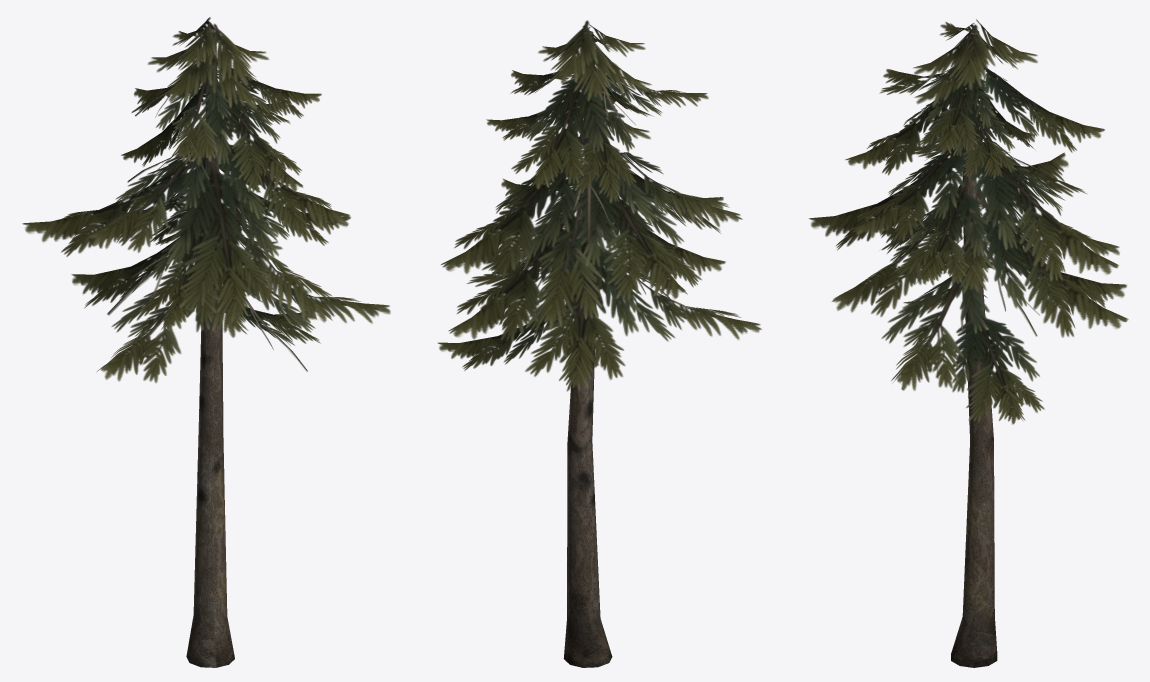
Rendered from fire-large-4-dark.glb.
3 views of the same model, side by side, from view 1: azimuth 30°, elevation 25°; view 2: azimuth 150°, elevation 25°; view 3: azimuth 270°, elevation 25° (orthographic).
Parts seen in each view (by area): view 1: Branches, Tree_bark; view 2: Branches, Tree_bark; view 3: Branches, Tree_bark.
Part boxes in pixels (left/top/right/bottom): Branches: left=22, top=17, right=390, bottom=383; Tree_bark: left=186, top=29, right=234, bottom=667; Branches: left=438, top=20, right=761, bottom=391; Tree_bark: left=563, top=31, right=612, bottom=667; Branches: left=808, top=19, right=1128, bottom=424; Tree_bark: left=951, top=30, right=997, bottom=667.
Bounding box in the file's own units: 306 × 624 × 294.
Materials: 2 (2 with a texture image).
